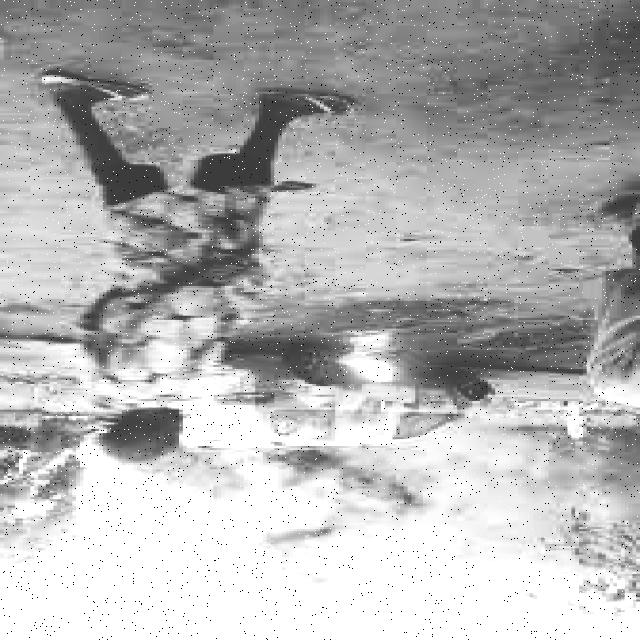api: (329, 340, 435, 398)
